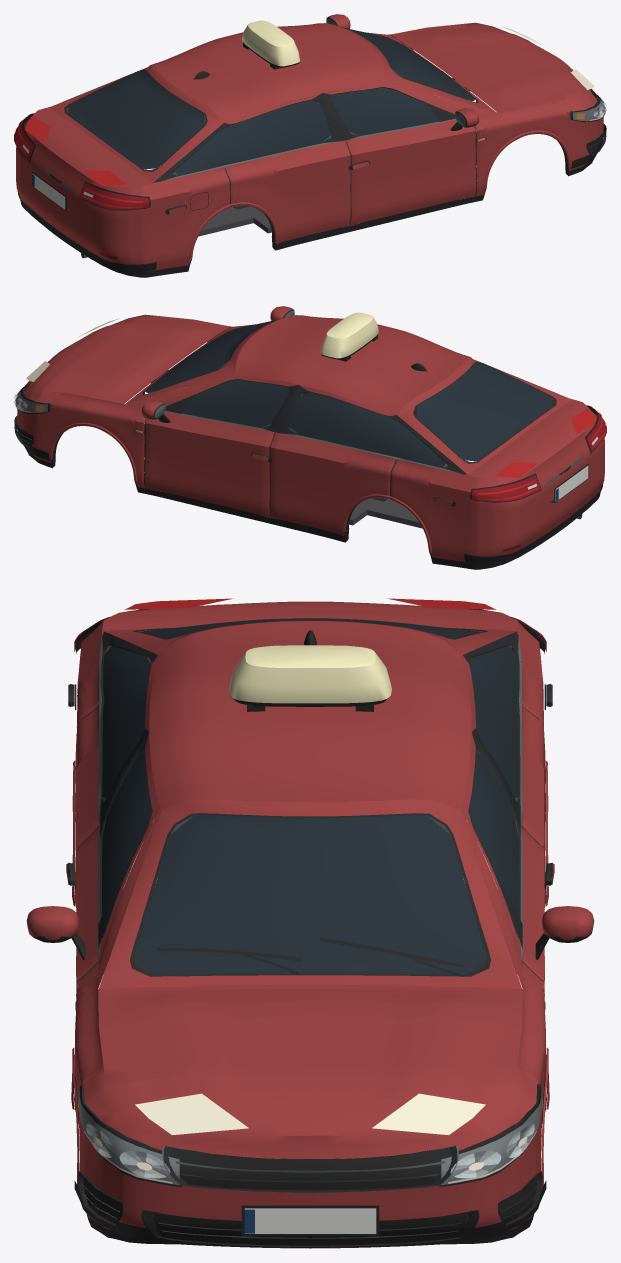
Rendered from taxi-street.glb.
The picture shows the model from 3 angles, top to bottom: view 1: azimuth 30°, elevation 25°; view 2: azimuth 150°, elevation 25°; view 3: azimuth 270°, elevation 25°; orthographic projection. The views are drawn at different scales.
Parts seen in each view (by area): view 1: taxi, taxi_door4, taxi_door2, taxi_street_trim; view 2: taxi, taxi_door3, taxi_door1, taxi_street_trim; view 3: taxi, taxi_street_trim, taxi_door1, taxi_door2, taxi_door3, taxi_door4.
Boxes of the visible parts, x1,y1,x2,y2 form: taxi: [16, 20, 603, 277]; taxi_door4: [153, 93, 350, 244]; taxi_door2: [322, 82, 479, 225]; taxi_street_trim: [14, 41, 606, 271]; taxi: [17, 312, 604, 569]; taxi_door3: [270, 385, 467, 536]; taxi_door1: [141, 374, 298, 517]; taxi_street_trim: [14, 331, 606, 563]; taxi: [71, 598, 549, 1248]; taxi_street_trim: [74, 609, 546, 1247]; taxi_door1: [461, 732, 594, 982]; taxi_door2: [26, 732, 159, 982]; taxi_door3: [463, 631, 552, 907]; taxi_door4: [68, 631, 157, 907].
Bounding box in the file's own units: 4.7 × 1.39 × 2.19.
